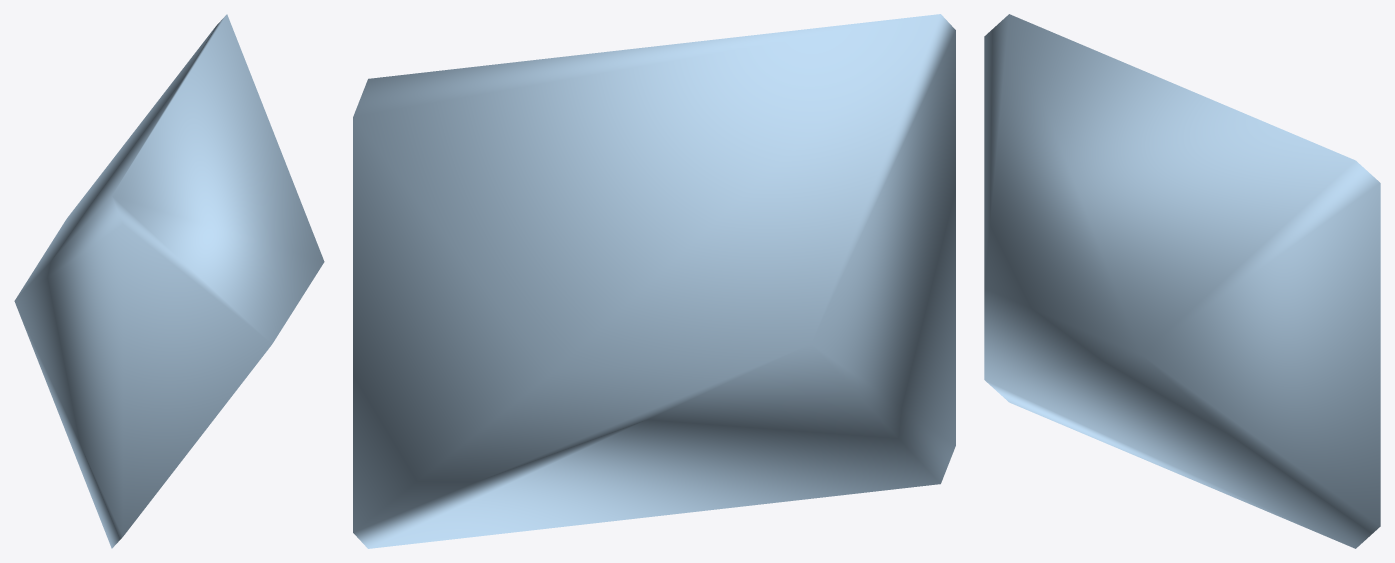
Rendered from gypsum.glb.
3 renders of one model, left to right at view 1: azimuth 30°, elevation 25°; view 2: azimuth 150°, elevation 25°; view 3: azimuth 270°, elevation 25°, orthographic. The views are drawn at different scales.
Visible parts, largest first — view 1: gypsum; view 2: gypsum; view 3: gypsum.
Part boxes in pixels (left/top/right/bottom): gypsum: left=14, top=14, right=324, bottom=548; gypsum: left=353, top=14, right=955, bottom=548; gypsum: left=984, top=14, right=1380, bottom=548.
Bounding box in the file's own units: 1.4 × 1.73 × 1.6.
